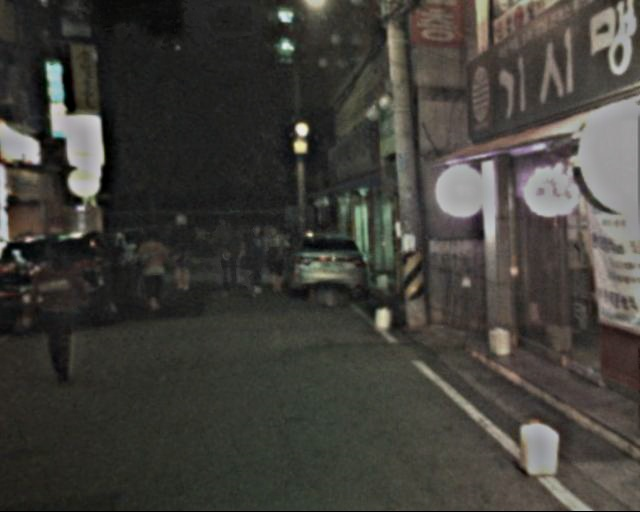person: (35, 240, 88, 375), (208, 214, 244, 293), (136, 229, 171, 305), (235, 226, 267, 295), (167, 212, 197, 285), (259, 223, 289, 293)
